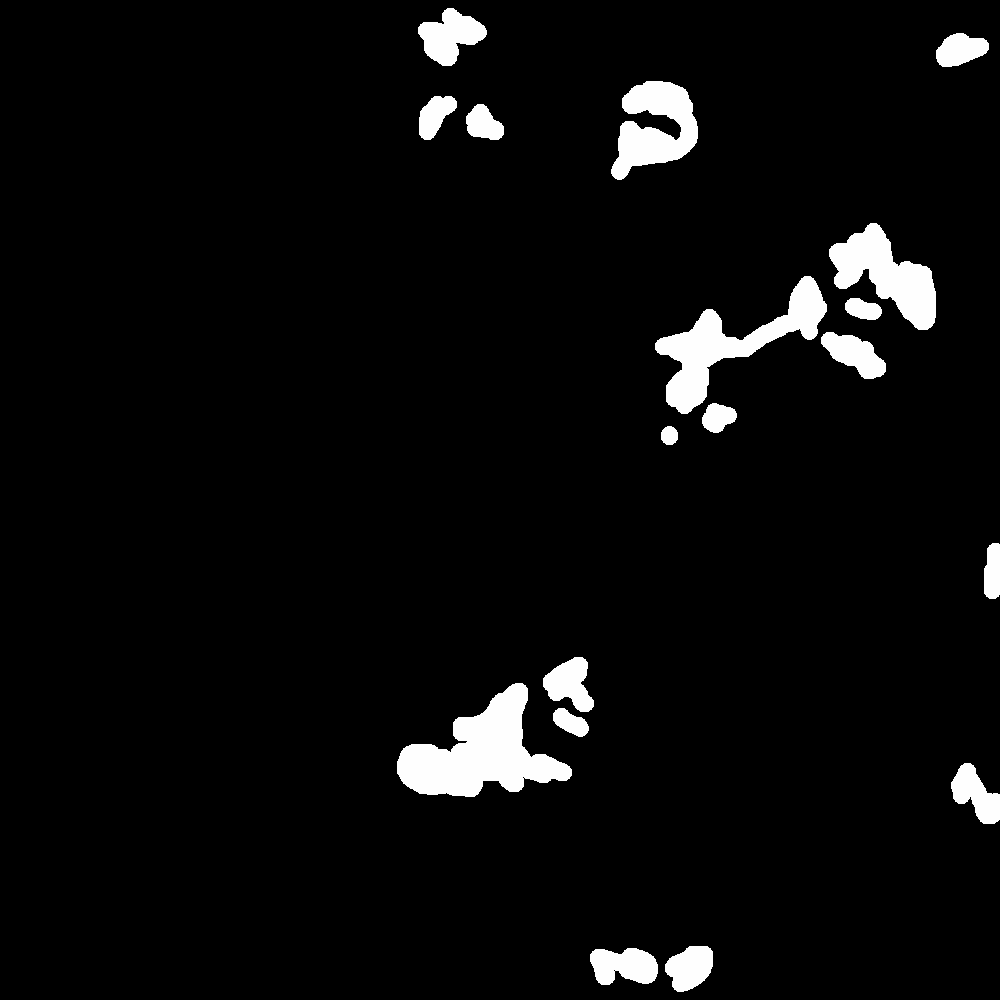illegal: (600, 1, 830, 182), (393, 647, 600, 840), (647, 279, 884, 447), (817, 111, 989, 336), (130, 884, 268, 1000), (696, 891, 844, 951), (587, 943, 721, 1000), (417, 1, 493, 63), (418, 91, 507, 143), (952, 755, 1000, 821), (933, 29, 984, 70), (983, 542, 1000, 594), (647, 496, 671, 517)
